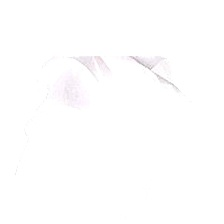tissue: (11, 56, 215, 224)
